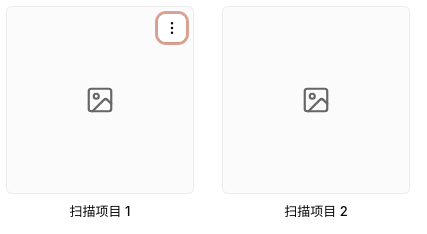
Scenario: ProjectNavigator › retains gallery recovery actions in the more menu
Press ArrowDown in the button named "扫描项目 1 项目操作", box left=158, top=14, right=186, bottom=42
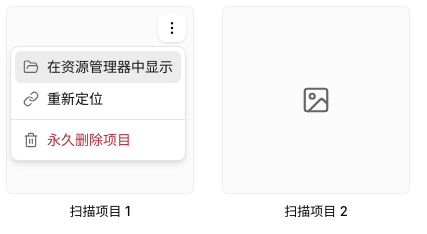
Click the menu item "重新定位" at {"x": 63, "y": 98}, box left=23, top=90, right=103, bottom=107
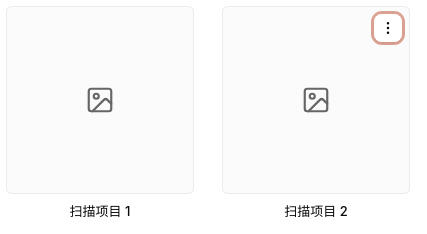
Expected: the menu is gone
Press ArrowDown in the button named "扫描项目 2 项目操作", box left=374, top=14, right=402, bottom=42
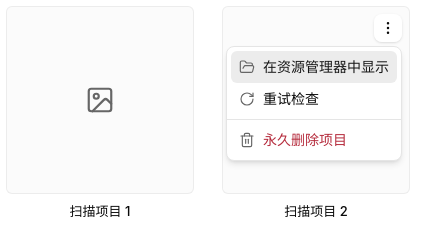
Click the menu item "重试检查" at {"x": 279, "y": 98}, box left=239, top=90, right=319, bottom=107
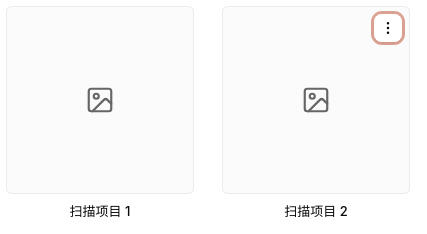
Expected: the menu item "重新定位" is not shown
Expected: the menu is gone
Expected: the menu item "重试检查" is gone
